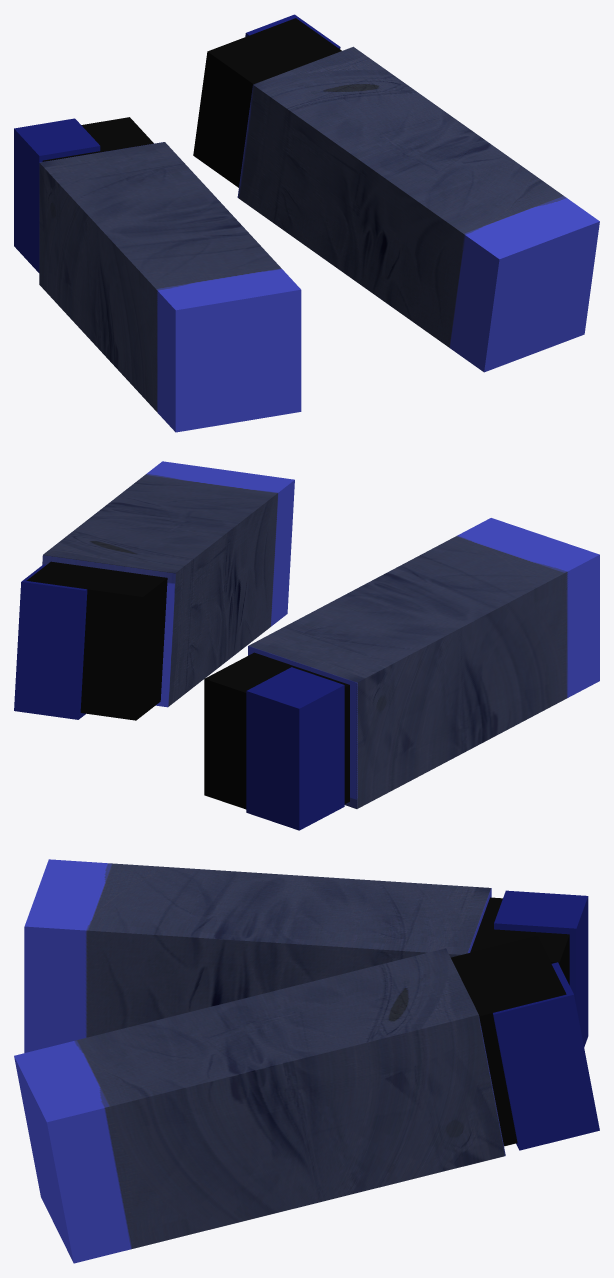
Rendered from fps_arms.glb.
The picture shows the model from 3 angles, top to bottom: view 1: azimuth 30°, elevation 25°; view 2: azimuth 150°, elevation 25°; view 3: azimuth 270°, elevation 25°; orthographic projection. The views are drawn at different scales.
Parts seen in each view (by area): view 1: Object_13, Object_9, Object_15, Object_5, Object_7; view 2: Object_9, Object_13, Object_5, Object_15, Object_11, Object_7; view 3: Object_13, Object_9, Object_11, Object_15, Object_5, Object_7.
Boxes of the visible parts, left/top/right/bottom form: Object_13: left=237, top=46, right=599, bottom=372; Object_9: left=39, top=142, right=301, bottom=432; Object_15: left=193, top=18, right=341, bottom=187; Object_5: left=14, top=118, right=100, bottom=272; Object_7: left=42, top=117, right=153, bottom=161; Object_9: left=248, top=518, right=599, bottom=808; Object_13: left=42, top=461, right=294, bottom=707; Object_5: left=246, top=667, right=344, bottom=830; Object_15: left=26, top=561, right=167, bottom=720; Object_11: left=14, top=564, right=87, bottom=719; Object_7: left=204, top=652, right=349, bottom=809; Object_13: left=14, top=948, right=505, bottom=1263; Object_9: left=24, top=859, right=491, bottom=1052; Object_11: left=493, top=962, right=599, bottom=1150; Object_15: left=451, top=936, right=566, bottom=1146; Object_5: left=494, top=890, right=588, bottom=1047; Object_7: left=470, top=897, right=569, bottom=984.
Size of the model in its own units: 0.4423 by 0.1859 by 0.4443.
3 materials, 3 textured.
